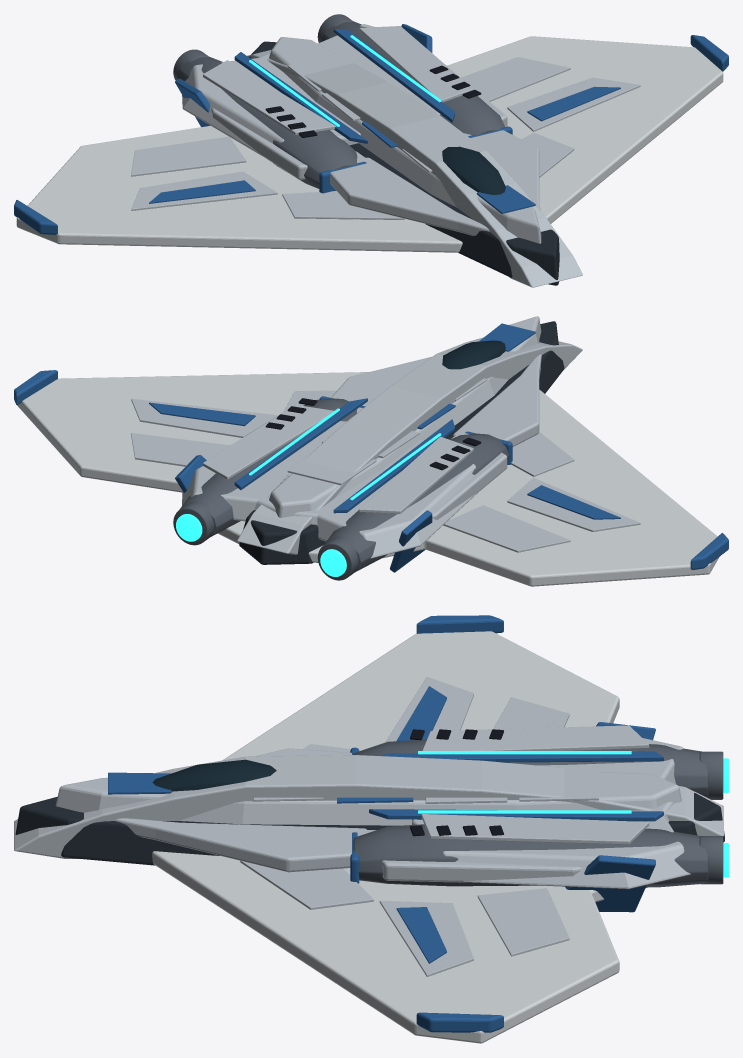
File: vanguard-interceptor-v4.fbx
3 renders of one model, top to bottom at view 1: azimuth 30°, elevation 25°; view 2: azimuth 150°, elevation 25°; view 3: azimuth 270°, elevation 25°, orthographic. The views are drawn at different scales.
Visible parts, largest first — view 1: Vanguard__blended_delta__lod0, Vanguard__aerodynamic_core__lod0, Vanguard__dorsal_spine__lod0, Vanguard__forward_cheek_-1__lod0, Vanguard__aft_engine_deck__lod0, Vanguard__ventral_keel__lod0, Vanguard__integrated_engine_-1__lod0, Vanguard__engine_armor_cap_-1__lod0, Vanguard__engine_armor_cap_+1__lod0, Vanguard__wing_armor_aft_-1__lod0, Vanguard__forward_cheek_+1__lod0, Vanguard__wing_armor_aft_+1__lod0 (+16 smaller); view 2: Vanguard__blended_delta__lod0, Vanguard__aerodynamic_core__lod0, Vanguard__aft_engine_deck__lod0, Vanguard__dorsal_spine__lod0, Vanguard__ventral_keel__lod0, Vanguard__forward_cheek_-1__lod0, Vanguard__engine_armor_cap_-1__lod0, Vanguard__engine_armor_cap_+1__lod0, Vanguard__integrated_engine_-1__lod0, Vanguard__wing_armor_aft_-1__lod0, Vanguard__integrated_engine_+1__lod0, Vanguard__wing_armor_mid_-1__lod0 (+21 smaller); view 3: Vanguard__blended_delta__lod0, Vanguard__aerodynamic_core__lod0, Vanguard__dorsal_spine__lod0, Vanguard__forward_cheek_+1__lod0, Vanguard__aft_engine_deck__lod0, Vanguard__integrated_engine_+1__lod0, Vanguard__ventral_keel__lod0, Vanguard__engine_armor_cap_+1__lod0, Vanguard__engine_armor_cap_-1__lod0, Vanguard__wing_armor_aft_+1__lod0, Vanguard__engine_shoulder_+1__lod0, Vanguard__wing_armor_forward_+1__lod0 (+18 smaller).
Boxes of the visible parts, x1,y1,x2,y2 form: Vanguard__blended_delta__lod0: (16,36,723,252); Vanguard__aerodynamic_core__lod0: (247,50,582,287); Vanguard__dorsal_spine__lod0: (269,37,541,243); Vanguard__forward_cheek_-1__lod0: (330,157,489,235); Vanguard__aft_engine_deck__lod0: (182,24,440,157); Vanguard__ventral_keel__lod0: (249,41,559,285); Vanguard__integrated_engine_-1__lod0: (177,56,357,188); Vanguard__engine_armor_cap_-1__lod0: (203,60,335,135); Vanguard__engine_armor_cap_+1__lod0: (359,26,473,102); Vanguard__wing_armor_aft_-1__lod0: (131,136,246,176); Vanguard__forward_cheek_+1__lod0: (466,130,540,210); Vanguard__wing_armor_aft_+1__lod0: (461,57,570,101); Vanguard__blended_delta__lod0: (17,372,719,586); Vanguard__aerodynamic_core__lod0: (237,337,582,554); Vanguard__aft_engine_deck__lod0: (182,421,478,558); Vanguard__dorsal_spine__lod0: (269,316,541,517); Vanguard__ventral_keel__lod0: (239,321,564,564); Vanguard__forward_cheek_-1__lod0: (453,354,541,446); Vanguard__engine_armor_cap_-1__lod0: (359,436,473,513); Vanguard__engine_armor_cap_+1__lod0: (203,404,334,479); Vanguard__integrated_engine_-1__lod0: (324,433,509,572); Vanguard__wing_armor_aft_-1__lod0: (443,505,570,552); Vanguard__integrated_engine_+1__lod0: (179,398,356,536); Vanguard__wing_armor_mid_-1__lod0: (507,477,640,531); Vanguard__blended_delta__lod0: (152,631,646,1043); Vanguard__aerodynamic_core__lod0: (14,755,723,858); Vanguard__dorsal_spine__lod0: (55,772,681,825); Vanguard__forward_cheek_+1__lod0: (115,818,366,872); Vanguard__aft_engine_deck__lod0: (412,738,690,889); Vanguard__integrated_engine_+1__lod0: (353,824,708,887); Vanguard__ventral_keel__lod0: (15,793,724,865); Vanguard__engine_armor_cap_+1__lod0: (421,814,649,844); Vanguard__engine_armor_cap_-1__lod0: (422,725,649,750); Vanguard__wing_armor_aft_+1__lod0: (477,888,569,956); Vanguard__engine_shoulder_+1__lod0: (359,830,581,882); Vanguard__wing_armor_forward_+1__lod0: (240,861,373,909).
Size of the model in its own units: 17.08 by 1.82 by 12.71.
